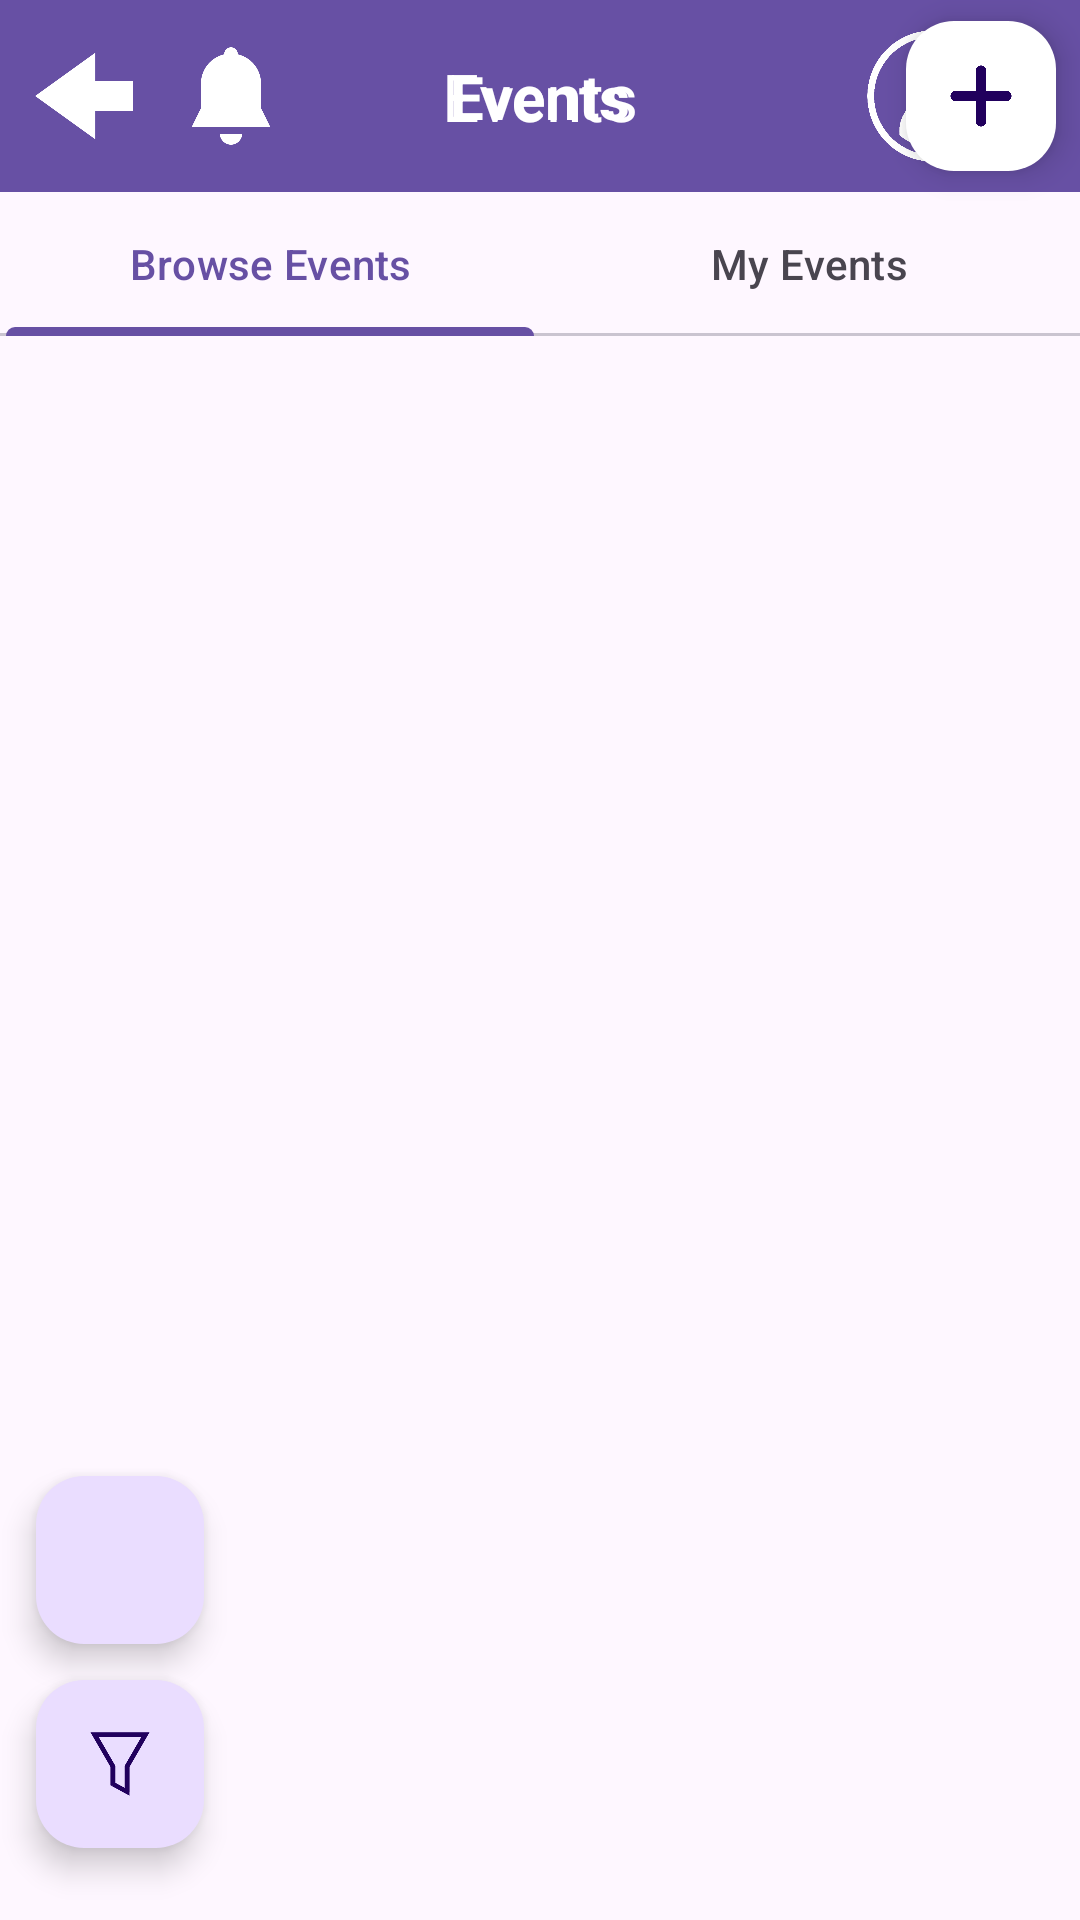

Icons on this 1080×1920 Android screen, each with its box as [x1, y1, x2, y2]:
back: [36, 53, 133, 139]
filter: [36, 1680, 204, 1848]
notification: [192, 47, 270, 145]
